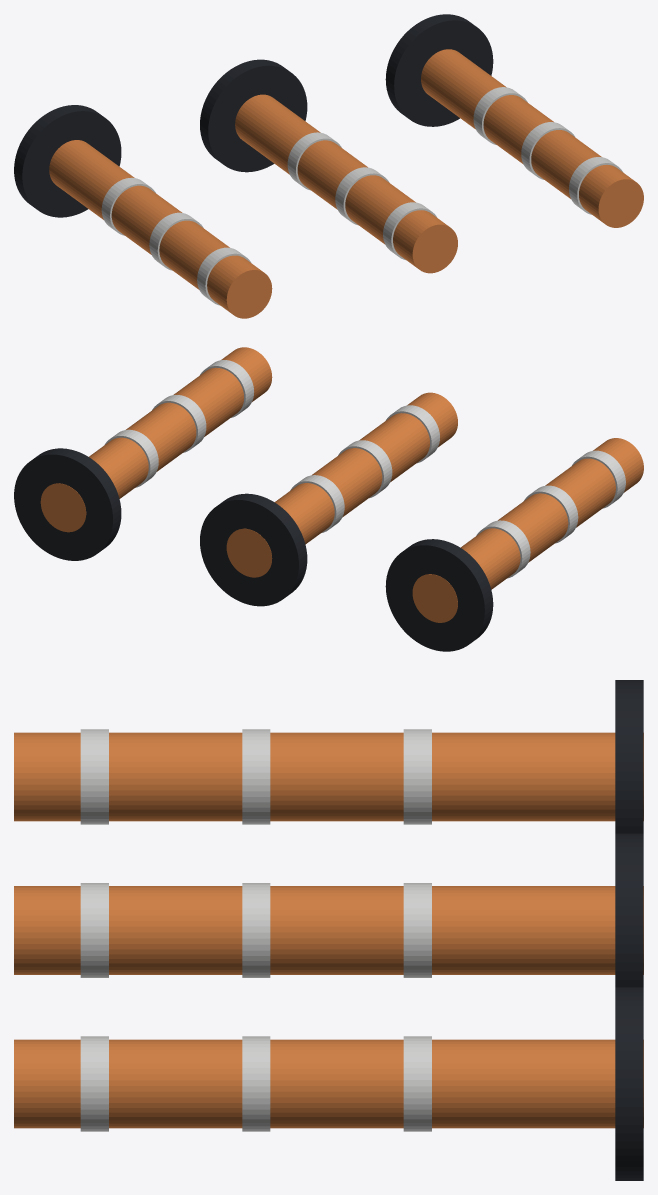
Rendered from SM_Taiwan_FlexibleBollard_3x_HQ.glb.
3 views of the same model, one above another, from view 1: azimuth 30°, elevation 25°; view 2: azimuth 150°, elevation 25°; view 3: azimuth 270°, elevation 25° (orthographic). The views are drawn at different scales.
Visible parts, largest first — view 1: post_-0.45, post_0, post_0.45, base_-0.45, base_0, base_0.45, retro_0_0.28, retro_-0.45_0.68, retro_0_0.48, retro_0.45_0.48, retro_-0.45_0.48, retro_0.45_0.28 (+3 smaller); view 2: post_0, post_0.45, post_-0.45, base_0.45, base_0, base_-0.45, retro_-0.45_0.28, retro_0.45_0.28, retro_0_0.28, retro_0_0.48, retro_-0.45_0.68, retro_-0.45_0.48 (+3 smaller); view 3: post_-0.45, post_0.45, post_0, base_0.45, base_0, base_-0.45, retro_-0.45_0.28, retro_-0.45_0.48, retro_-0.45_0.68, retro_0.45_0.28, retro_0.45_0.48, retro_0.45_0.68 (+3 smaller).
Part boxes in pixels (bbox=[...]): post_-0.45: bbox=[49, 140, 272, 318]; post_0: bbox=[235, 94, 457, 273]; post_0.45: bbox=[421, 49, 643, 227]; base_-0.45: bbox=[14, 105, 121, 217]; base_0: bbox=[200, 59, 307, 172]; base_0.45: bbox=[385, 14, 493, 126]; retro_0_0.28: bbox=[287, 132, 341, 190]; retro_-0.45_0.68: bbox=[197, 247, 251, 305]; retro_0_0.48: bbox=[335, 167, 389, 225]; retro_0.45_0.48: bbox=[521, 122, 575, 179]; retro_-0.45_0.48: bbox=[149, 212, 203, 270]; retro_0.45_0.28: bbox=[473, 87, 527, 144]; post_0: bbox=[226, 392, 457, 577]; post_0.45: bbox=[40, 347, 272, 532]; post_-0.45: bbox=[412, 438, 643, 622]; base_0.45: bbox=[14, 448, 121, 560]; base_0: bbox=[200, 493, 307, 606]; base_-0.45: bbox=[385, 539, 493, 651]; retro_-0.45_0.28: bbox=[476, 520, 530, 578]; retro_0.45_0.28: bbox=[104, 429, 158, 487]; retro_0_0.28: bbox=[290, 475, 344, 532]; retro_0_0.48: bbox=[338, 440, 392, 498]; retro_-0.45_0.68: bbox=[572, 450, 625, 508]; retro_-0.45_0.48: bbox=[524, 485, 578, 543]; post_-0.45: bbox=[14, 732, 643, 821]; post_0.45: bbox=[14, 1039, 643, 1128]; post_0: bbox=[14, 886, 643, 974]; base_0.45: bbox=[615, 987, 643, 1180]; base_0: bbox=[615, 833, 643, 987]; base_-0.45: bbox=[615, 680, 643, 833]; retro_-0.45_0.28: bbox=[403, 729, 431, 824]; retro_-0.45_0.48: bbox=[242, 729, 270, 824]; retro_-0.45_0.68: bbox=[80, 729, 108, 824]; retro_0.45_0.28: bbox=[403, 1036, 431, 1131]; retro_0.45_0.48: bbox=[242, 1036, 270, 1131]; retro_0.45_0.68: bbox=[80, 1036, 108, 1131].
Bounding box in the file's own units: 1.14 × 0.24 × 0.78.
